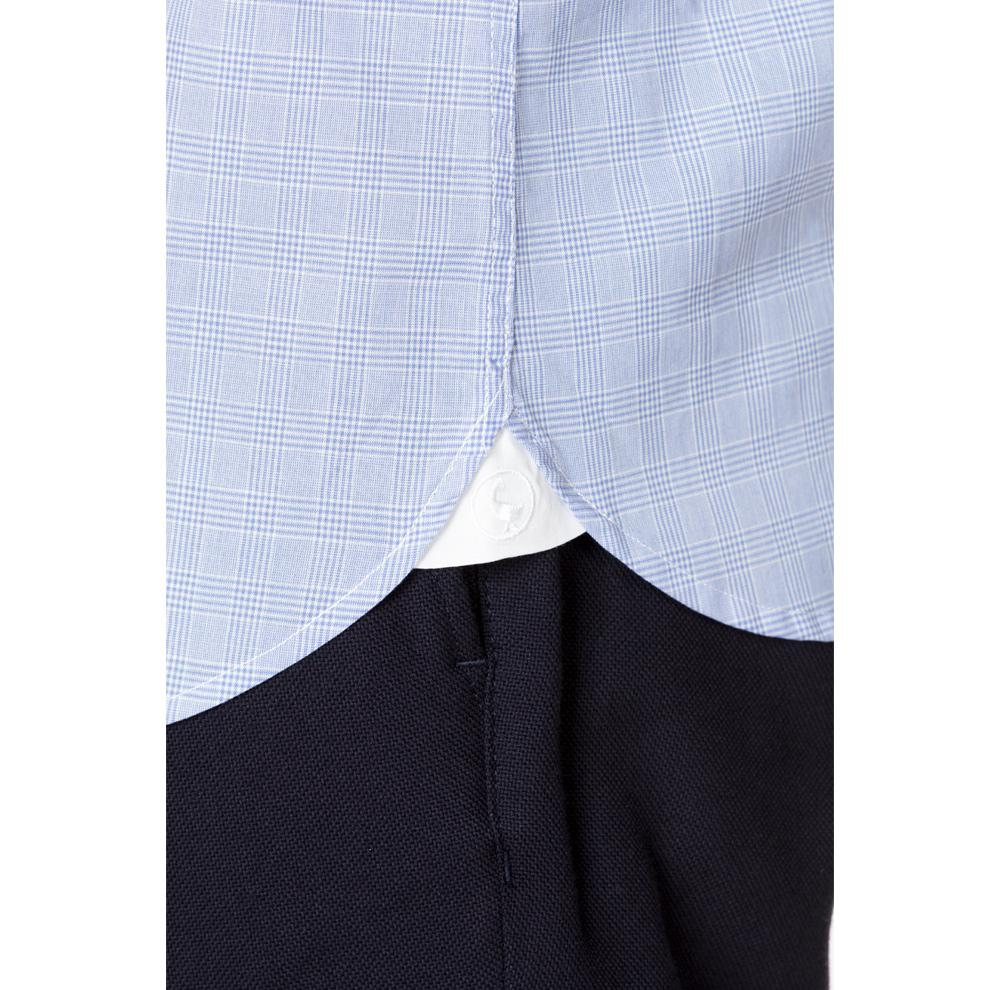teeshirt: (161, 1, 835, 670)
